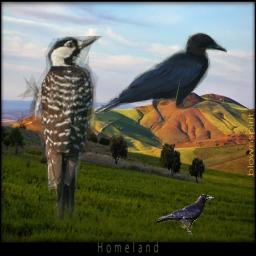Crow: (94, 32, 227, 126), (155, 194, 214, 236)
Woodpecker: (17, 36, 103, 231)
